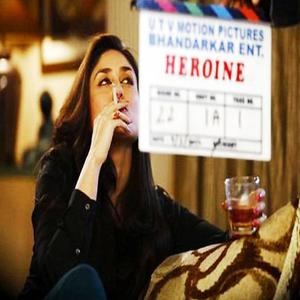cigarette: (112, 83, 119, 104)
